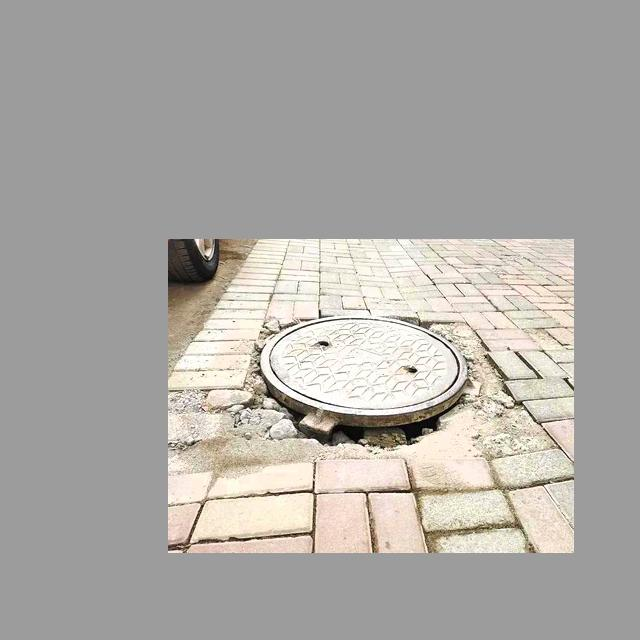circle: (206, 315, 548, 458)
